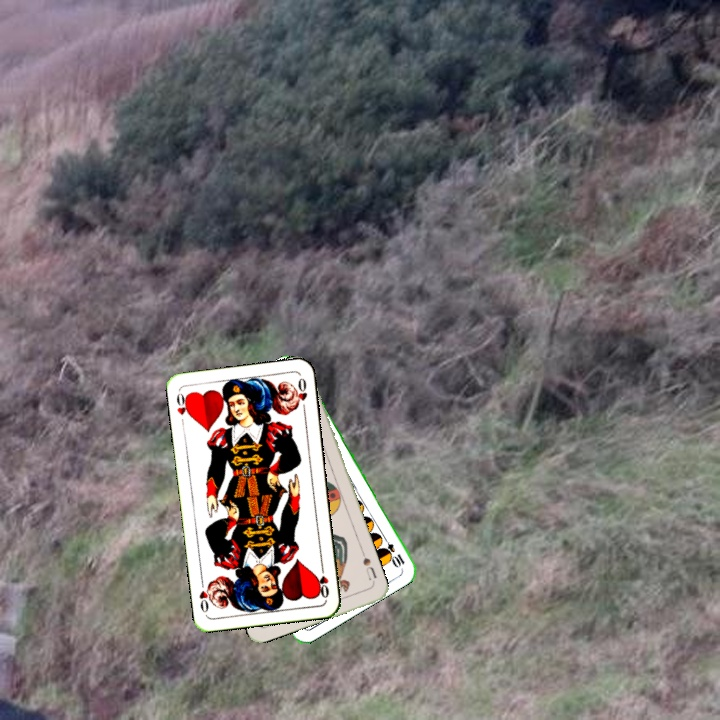E10: (378, 532, 408, 570)
HO: (314, 561, 331, 601), (173, 389, 193, 419)
SU: (358, 547, 379, 587)
